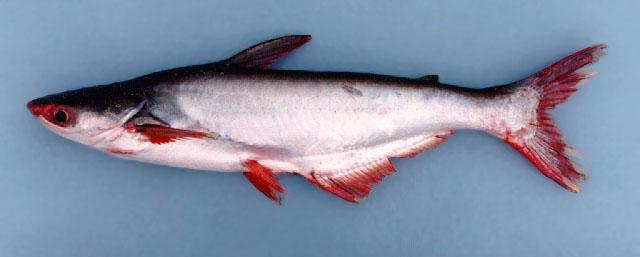Mulut: (22, 82, 82, 146)
Sirip Anal: (308, 124, 457, 208)
Sirip Dada: (124, 118, 212, 152)
Sirip Ekor: (510, 40, 620, 202)
Sirip Perut: (230, 154, 296, 216)
Sirip Punggung: (220, 26, 324, 80)
